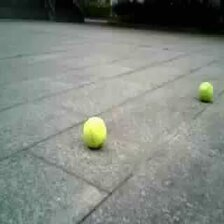tennis: (83, 116, 105, 147), (198, 81, 213, 101)
